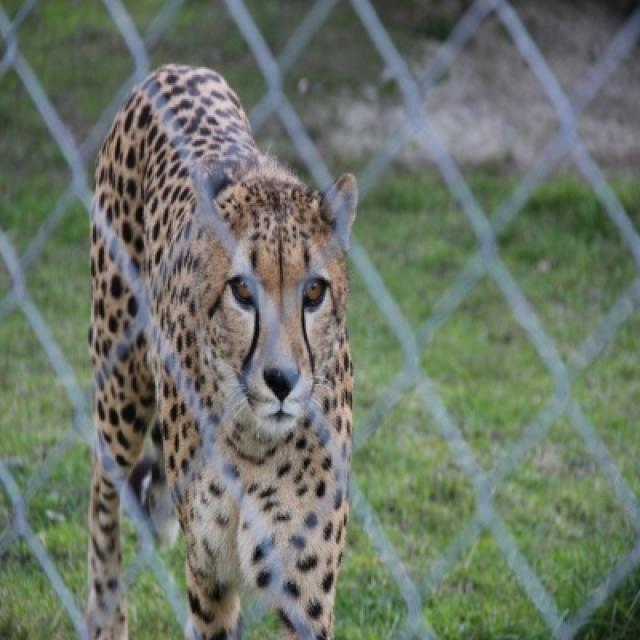Cheetah: (82, 64, 358, 638)
